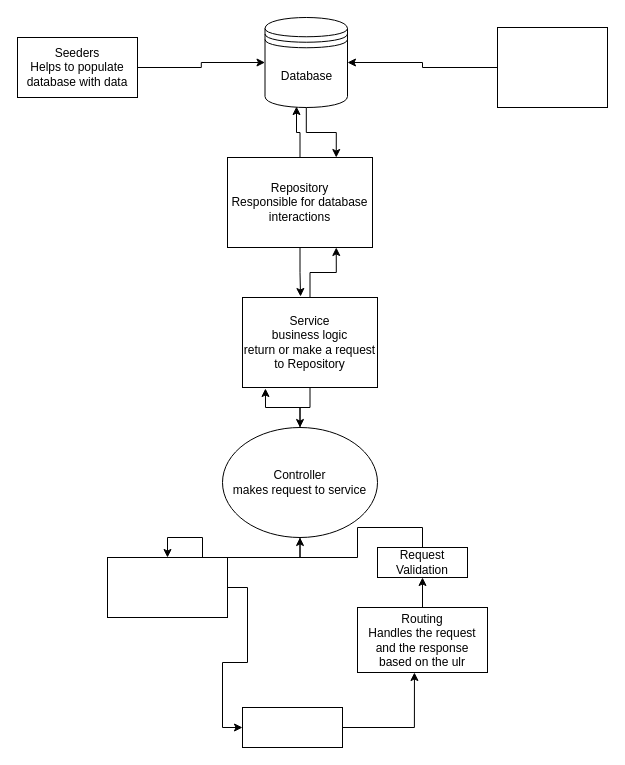
The diagram is 625 pixels wide and 765 high, and some of its shapes have lost their labels. The shapes that lost their labels are listed below. From the top down, each one's centre as x and y in pixels, then its label:
At (x=552, y=67): "Migtraion Help to create schema or database using schema builder".
At (x=167, y=587): "Trasformers helps to return data in better way".
At (x=292, y=727): "Vue Js components".
